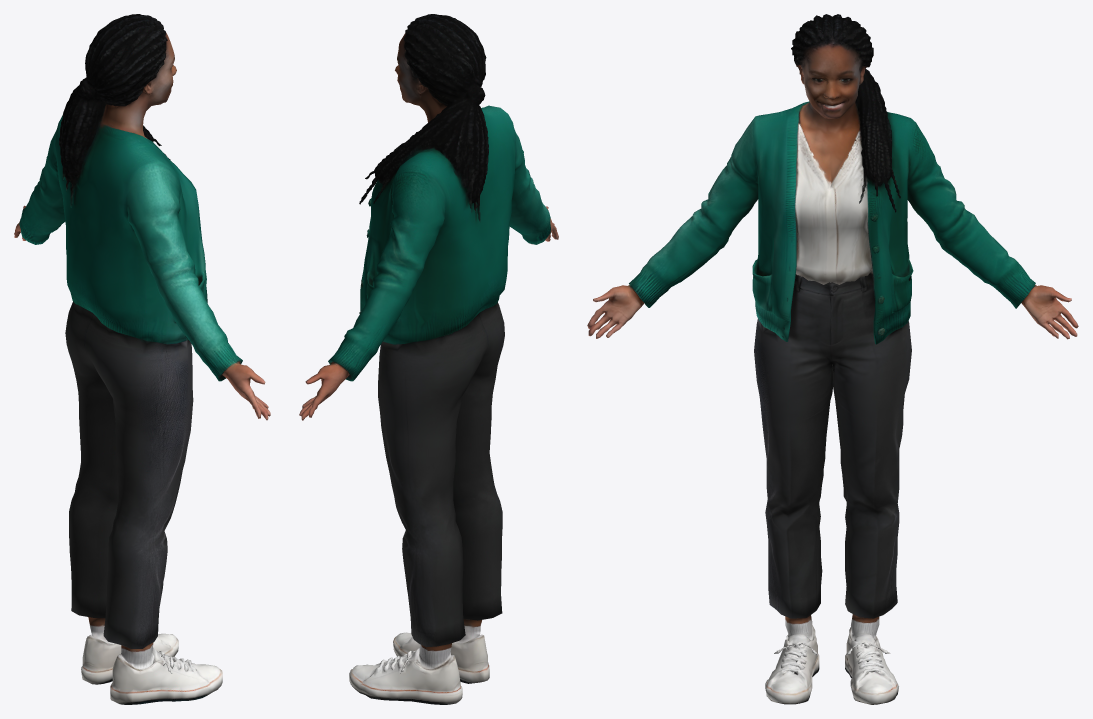
File: hospede_f_01.glb
3 views of the same model, side by side, from view 1: azimuth 30°, elevation 25°; view 2: azimuth 150°, elevation 25°; view 3: azimuth 270°, elevation 25° (orthographic).
Visible parts, largest first — view 1: tripo_node_49a8e7f1-0744-4968-aed2-1ea7ab7c183a; view 2: tripo_node_49a8e7f1-0744-4968-aed2-1ea7ab7c183a; view 3: tripo_node_49a8e7f1-0744-4968-aed2-1ea7ab7c183a.
Part boxes in pixels (box(x1,y1,x2,y2)): tripo_node_49a8e7f1-0744-4968-aed2-1ea7ab7c183a: box(14, 14, 270, 704); tripo_node_49a8e7f1-0744-4968-aed2-1ea7ab7c183a: box(299, 14, 558, 704); tripo_node_49a8e7f1-0744-4968-aed2-1ea7ab7c183a: box(587, 14, 1078, 704).
Size of the model in its own units: 0.339 by 1.75 by 1.18.
Materials: 1 (1 with a texture image).
